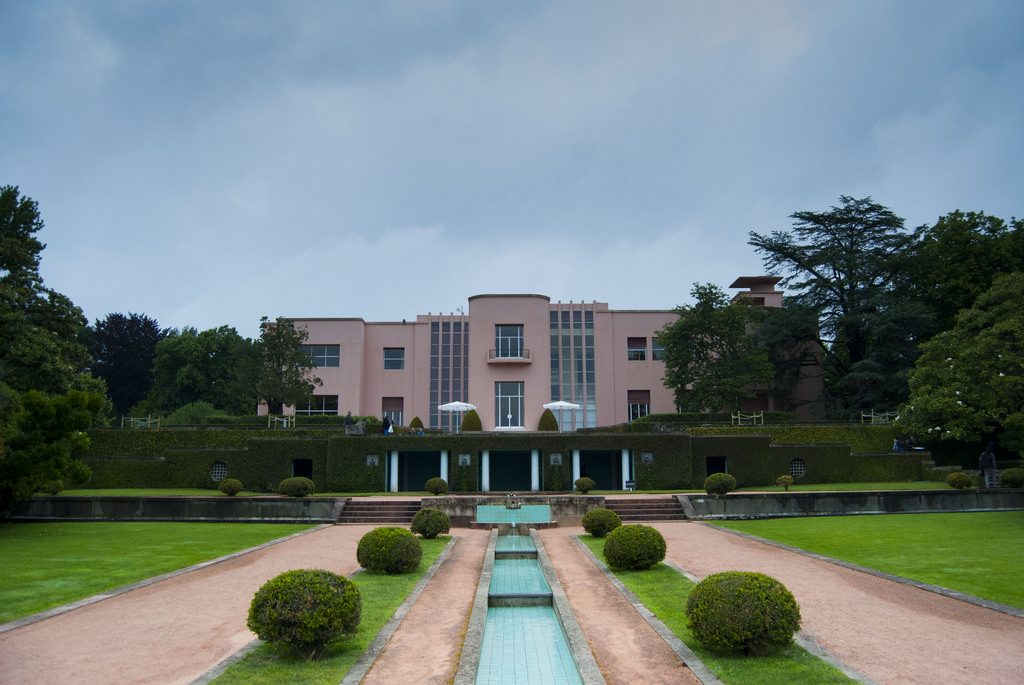serralves: (260, 271, 827, 434)
